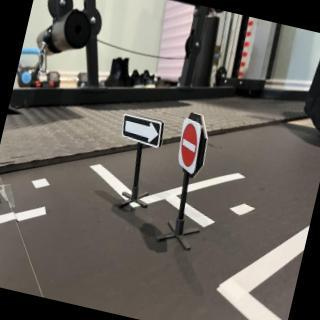sign_noentry: (172, 117, 207, 178)
sign_oneway_right: (118, 113, 168, 150)
